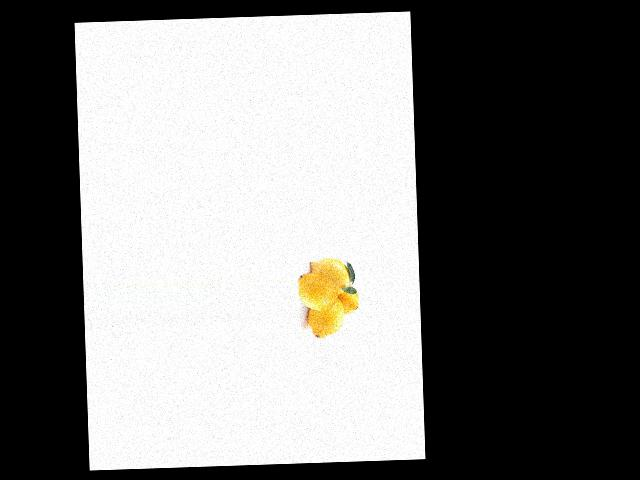lemon: (311, 296, 345, 340)
